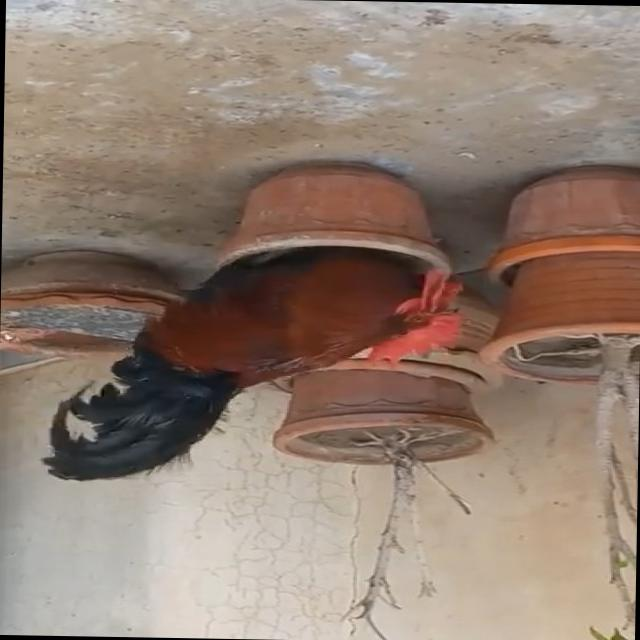stand bath: (54, 230, 482, 498)
